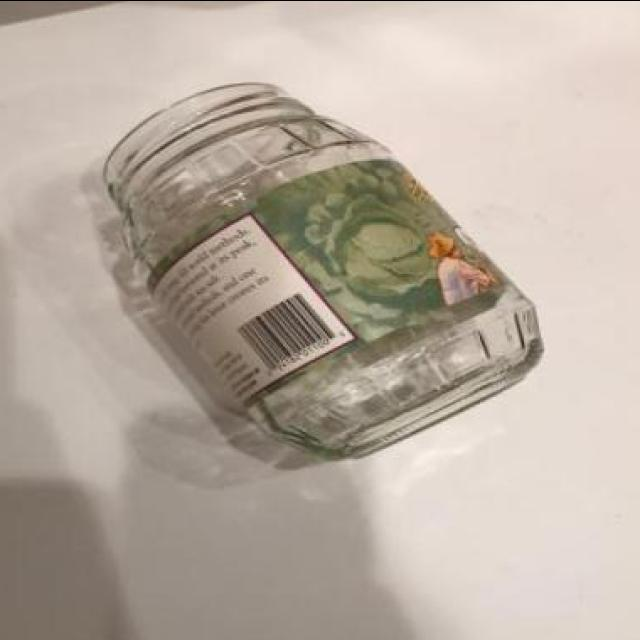kaca: (108, 80, 546, 458)
